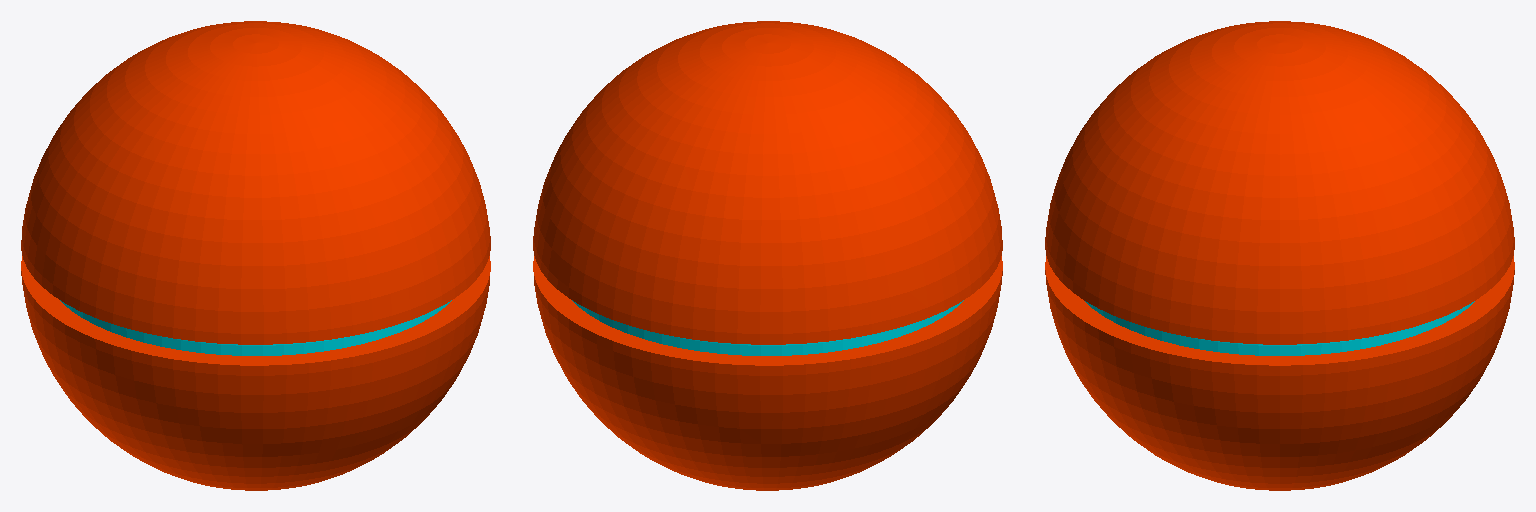
Rendered from neon_blue.obj.
The picture shows the model from 3 angles: view 1: azimuth 30°, elevation 25°; view 2: azimuth 150°, elevation 25°; view 3: azimuth 270°, elevation 25°; orthographic projection.
Visible parts, largest first — view 1: Sphere; view 2: Sphere; view 3: Sphere.
Part boxes in pixels (x1,y1,x2,y2): Sphere: (21,21,490,490); Sphere: (533,21,1002,490); Sphere: (1045,21,1514,490).
Bounding box in the file's own units: 0.5 × 0.5 × 0.5.